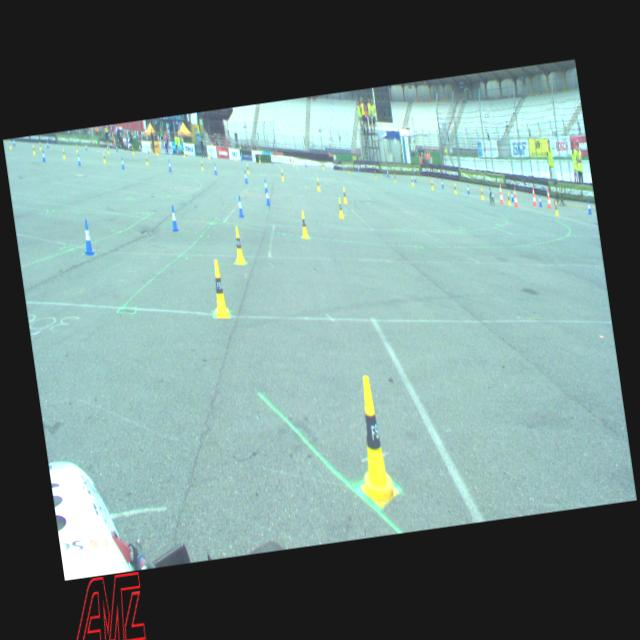blue_cone: (81, 219, 95, 256), (170, 206, 178, 232), (237, 196, 244, 217), (264, 188, 270, 206), (586, 201, 592, 214), (120, 156, 125, 168), (41, 150, 46, 162), (264, 179, 268, 194), (538, 194, 542, 207), (244, 170, 248, 183), (466, 184, 471, 194), (77, 154, 81, 166), (510, 190, 514, 202), (168, 160, 172, 171), (214, 163, 218, 174), (441, 178, 444, 188), (12, 138, 15, 146), (413, 174, 416, 182), (47, 141, 49, 148)
large_orange_cone: (497, 184, 504, 204), (512, 185, 518, 208), (546, 188, 552, 208), (531, 186, 537, 206)
yellow_cone: (345, 374, 400, 510), (208, 258, 230, 318), (232, 226, 246, 265), (299, 210, 309, 240), (336, 198, 344, 218), (342, 187, 348, 203), (506, 192, 512, 205), (553, 201, 558, 215), (316, 178, 320, 191), (102, 152, 106, 163), (453, 183, 457, 194), (480, 188, 484, 198), (62, 148, 66, 158), (280, 170, 284, 180), (32, 145, 36, 154), (246, 162, 249, 174), (8, 140, 12, 149), (38, 142, 42, 150), (431, 180, 434, 190), (411, 177, 414, 186), (201, 161, 204, 170), (107, 146, 110, 154), (75, 144, 78, 152), (146, 155, 148, 165), (394, 173, 396, 182), (208, 152, 210, 160), (259, 156, 261, 163)
